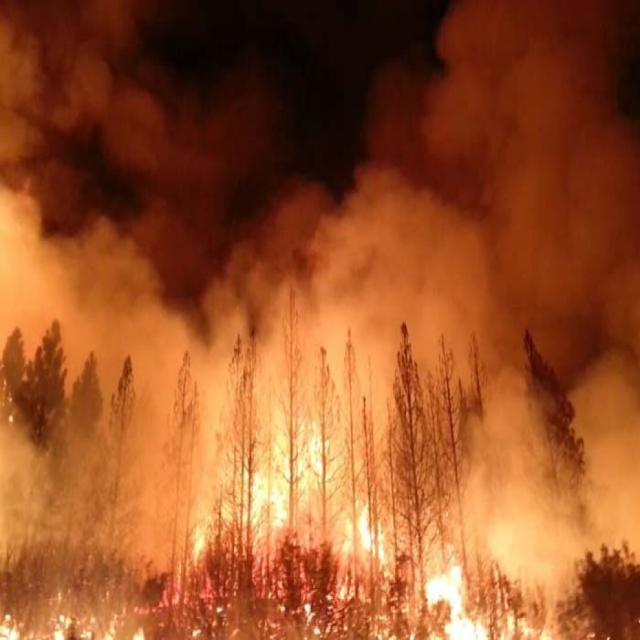Fire: (194, 373, 482, 634), (0, 556, 178, 640)
Smoke: (276, 0, 632, 336), (1, 25, 194, 555), (485, 356, 640, 604)
